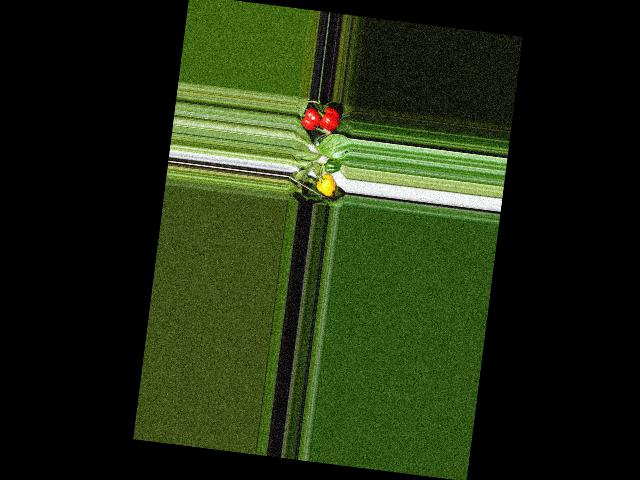bell_pepper: (314, 172, 338, 199)
